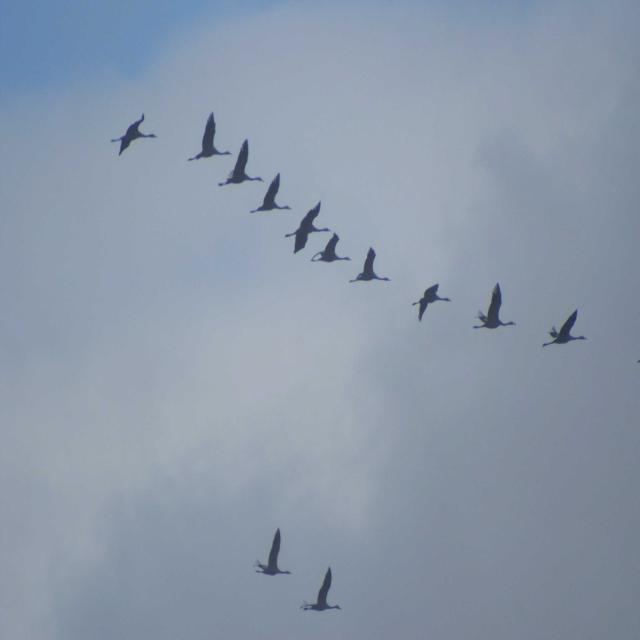bird: (473, 282, 520, 331), (300, 564, 341, 616), (188, 112, 228, 162), (112, 114, 156, 156), (286, 201, 322, 252), (254, 528, 293, 575), (542, 307, 587, 347), (220, 140, 258, 187), (250, 173, 290, 216), (350, 245, 391, 285), (414, 281, 451, 322), (310, 232, 344, 264)
